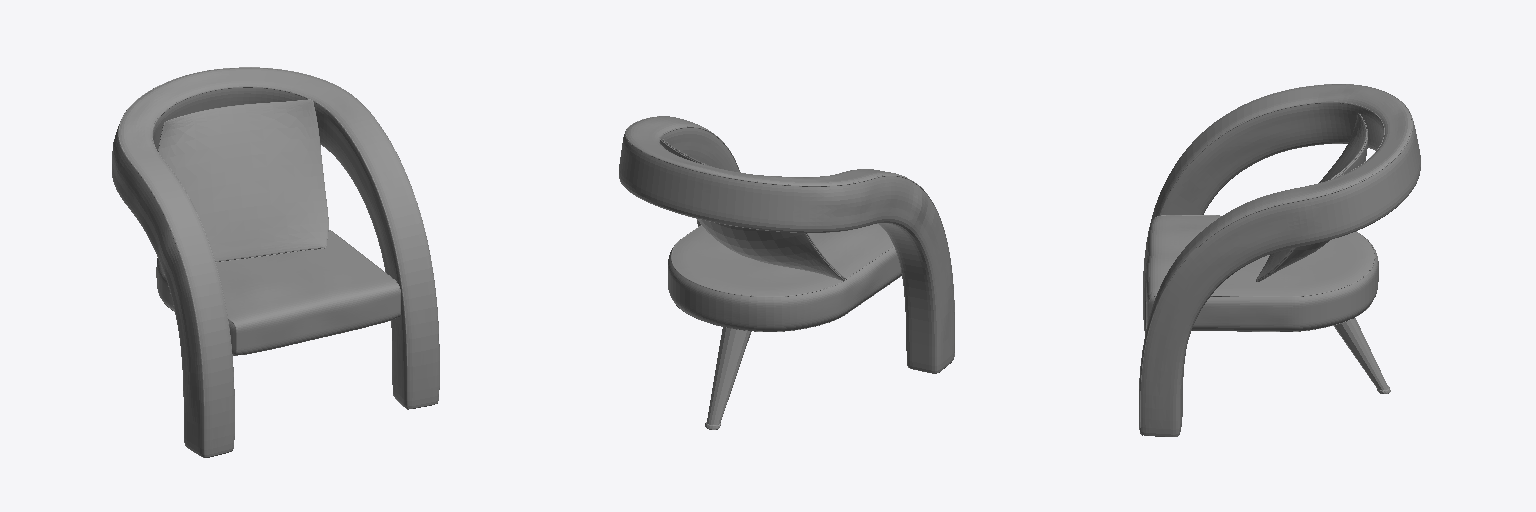
Rendered from sillajavi.obj.
3 renders of one model, left to right at view 1: azimuth 30°, elevation 25°; view 2: azimuth 150°, elevation 25°; view 3: azimuth 270°, elevation 25°, orthographic.
Parts seen in each view (by area): view 1: Cylinder08, Box20, Cylinder07; view 2: Cylinder08, Cylinder07, Box20; view 3: Cylinder08, Cylinder07, Box20.
Boxes of the visible parts, x1=… form: Cylinder08: x1=112, y1=67, x2=439, y2=457; Box20: x1=158, y1=99, x2=328, y2=262; Cylinder07: x1=156, y1=230, x2=400, y2=355; Cylinder08: x1=619, y1=116, x2=954, y2=429; Cylinder07: x1=668, y1=224, x2=901, y2=331; Box20: x1=660, y1=138, x2=845, y2=280; Cylinder08: x1=1139, y1=84, x2=1420, y2=436; Cylinder07: x1=1146, y1=215, x2=1378, y2=331; Box20: x1=1256, y1=113, x2=1367, y2=281.
Size of the model in its own units: 36.69 by 38.27 by 36.56.